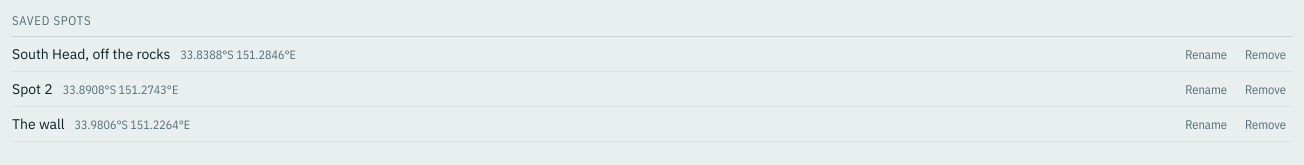
it: SavedSpots › renaming › leaves the name alone when the field is emptied
The image size is (1304, 165).
Click the 3rd button "Rename" at (1206, 124), box x1=1179 y1=112 x2=1233 y2=136
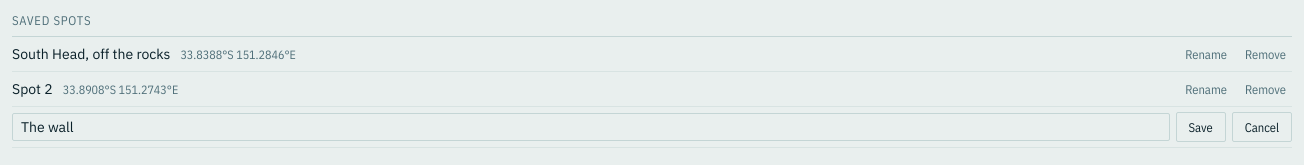
Clear the field named "Rename The wall" at (591, 127), box x1=12 y1=113 x2=1170 y2=141
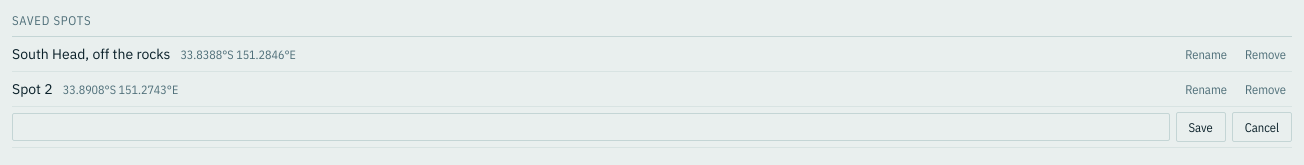
Press Enter
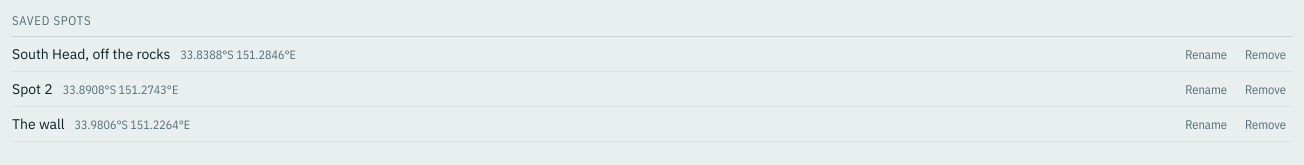
Result: the text "The wall" is shown at x1=12 y1=115 x2=65 y2=133
